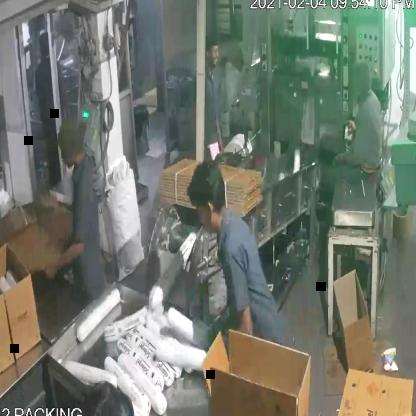no_glove: (34, 234, 89, 282)
